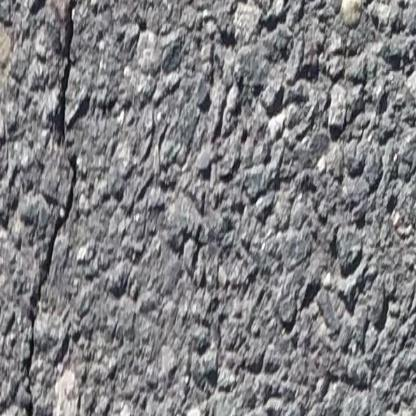Cracks: (19, 0, 138, 416)
